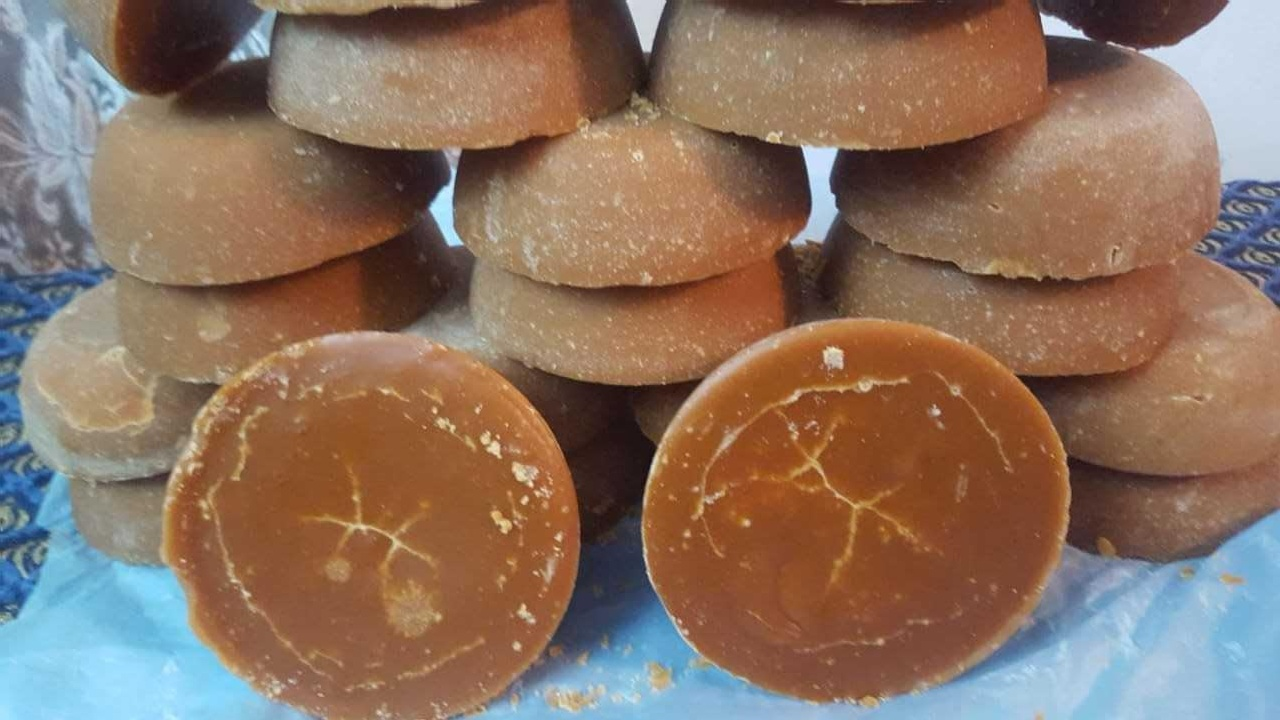hakuru: (637, 318, 1075, 704), (157, 328, 585, 719), (824, 40, 1235, 282), (88, 70, 440, 286), (451, 86, 808, 287)
